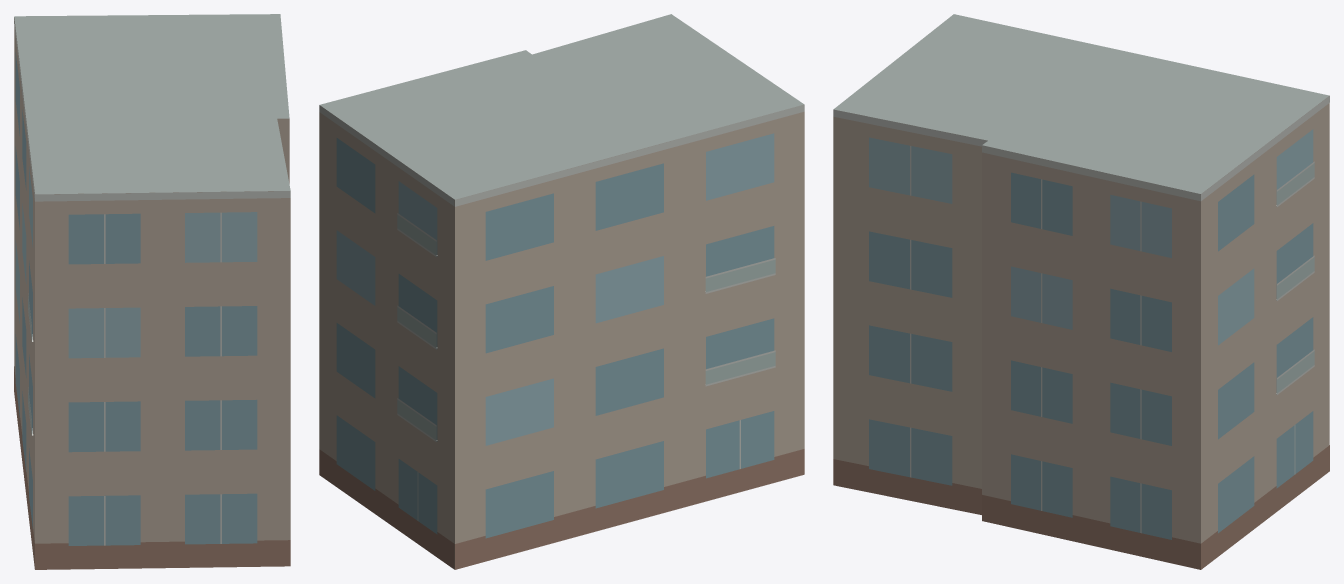
The model's file is survey-upis-32954949.glb.
The picture shows the model from 3 angles, left to right: view 1: azimuth 30°, elevation 25°; view 2: azimuth 150°, elevation 25°; view 3: azimuth 270°, elevation 25°; orthographic projection.
Parts seen in each view (by area): view 1: survey-upis-32954949.tmp; view 2: survey-upis-32954949.tmp; view 3: survey-upis-32954949.tmp.
Part boxes in pixels (bbox=[...]): survey-upis-32954949.tmp: bbox=[14, 14, 290, 569]; survey-upis-32954949.tmp: bbox=[319, 14, 804, 569]; survey-upis-32954949.tmp: bbox=[833, 14, 1329, 569].
Bounding box in the file's own units: 13.07 × 12.7 × 15.21.
